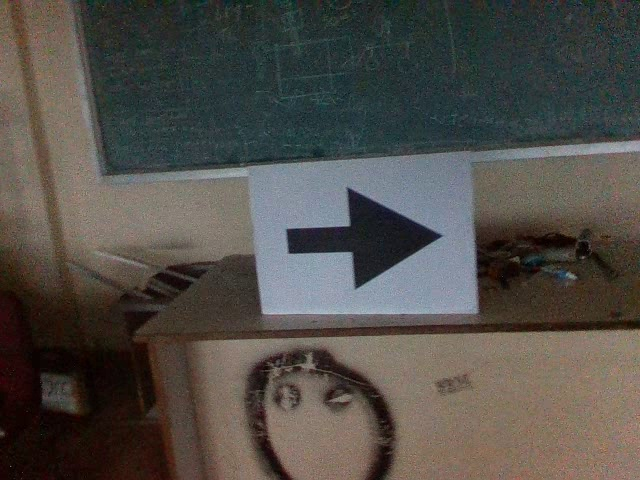Right: (284, 183, 449, 295)
